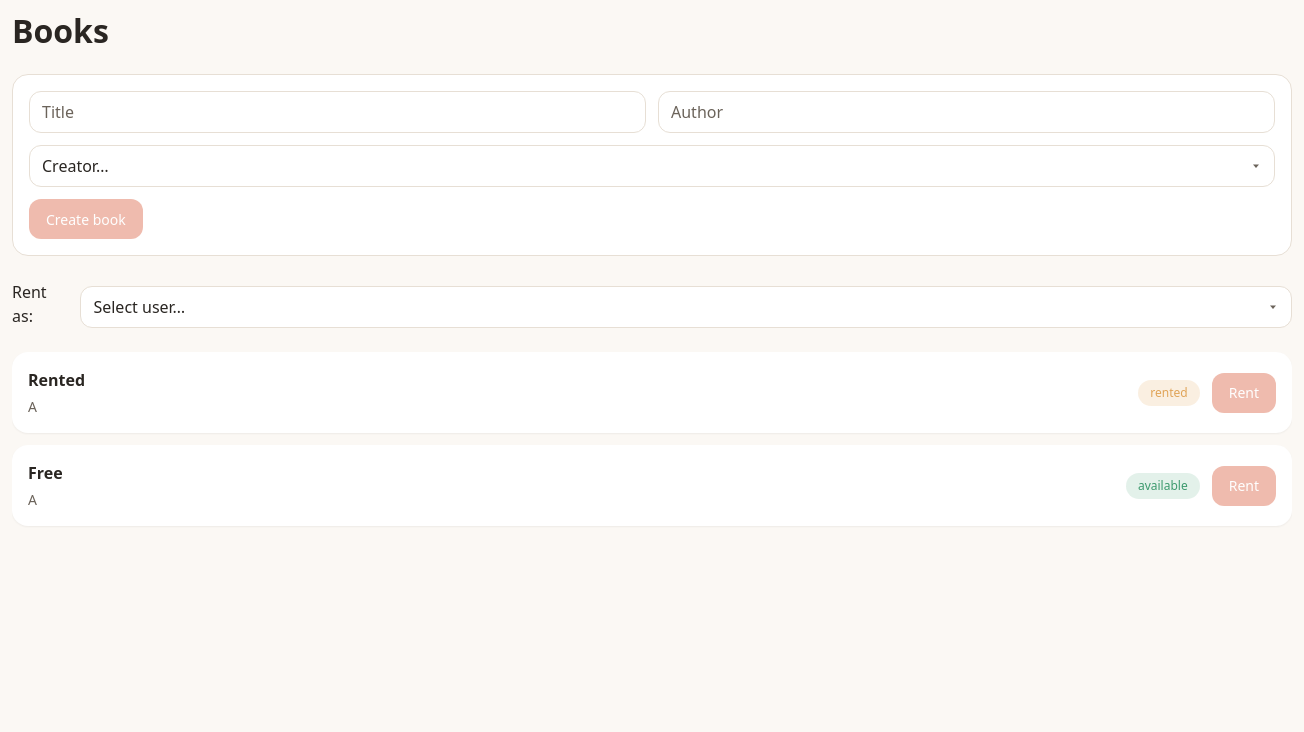
it: BooksPage (CARD-032/033) › disables Rent until a user is chosen and never enables it for rented books
The width and height of the screenshot is (1304, 732).
Expected: the text "Rented" is shown, [28,368,85,392]
Expected: the button "Rent" next to "available" is disabled, [1212,466,1276,506]
Select "Alice" in the dropdown labelled "Rent as" at (686, 307), box [80,286,1292,328]
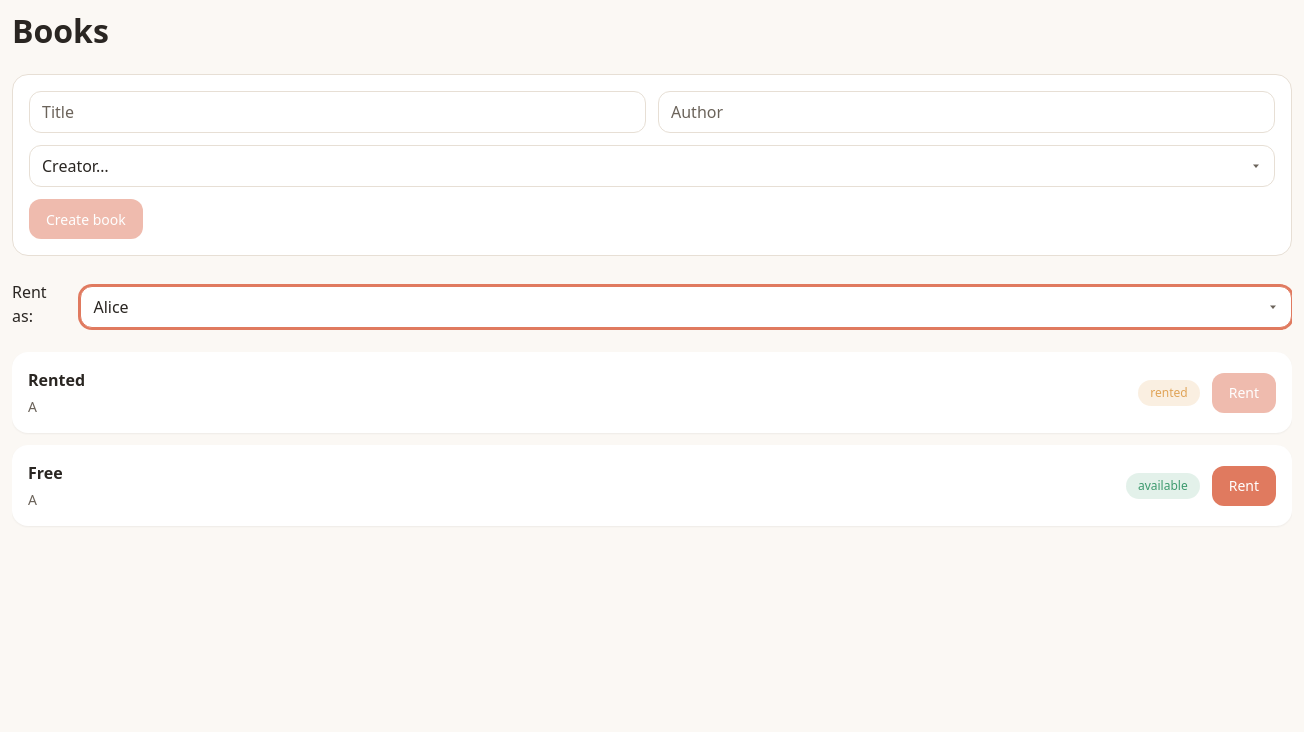
Expected: the 1st button "Rent" is disabled, [1212,373,1276,413]
Expected: the button "Rent" next to "available" is enabled, [1212,466,1276,506]
